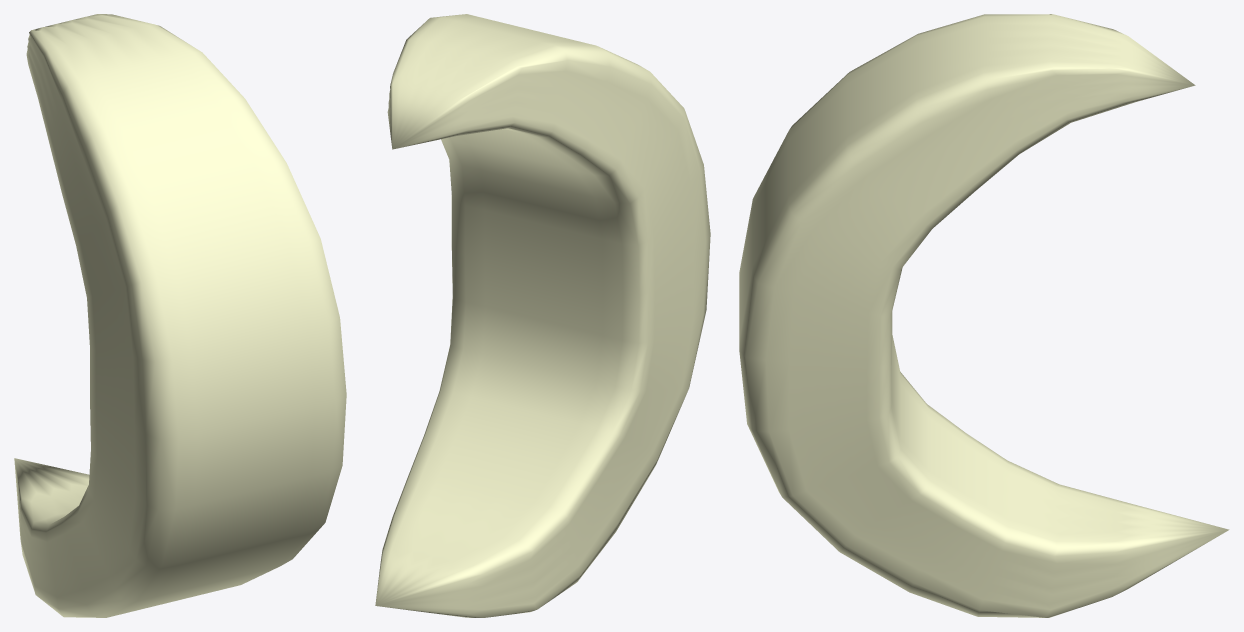
File: moon.glb
The picture shows the model from 3 angles, left to right: view 1: azimuth 30°, elevation 25°; view 2: azimuth 150°, elevation 25°; view 3: azimuth 270°, elevation 25°; orthographic projection.
Visible parts, largest first — view 1: pCube2; view 2: pCube2; view 3: pCube2.
Boxes of the visible parts, <box> form: pCube2: <box>14,14,346,617</box>; pCube2: <box>375,14,710,617</box>; pCube2: <box>739,14,1229,617</box>.
Size of the model in its own units: 0.00881 by 0.0235 by 0.019.
